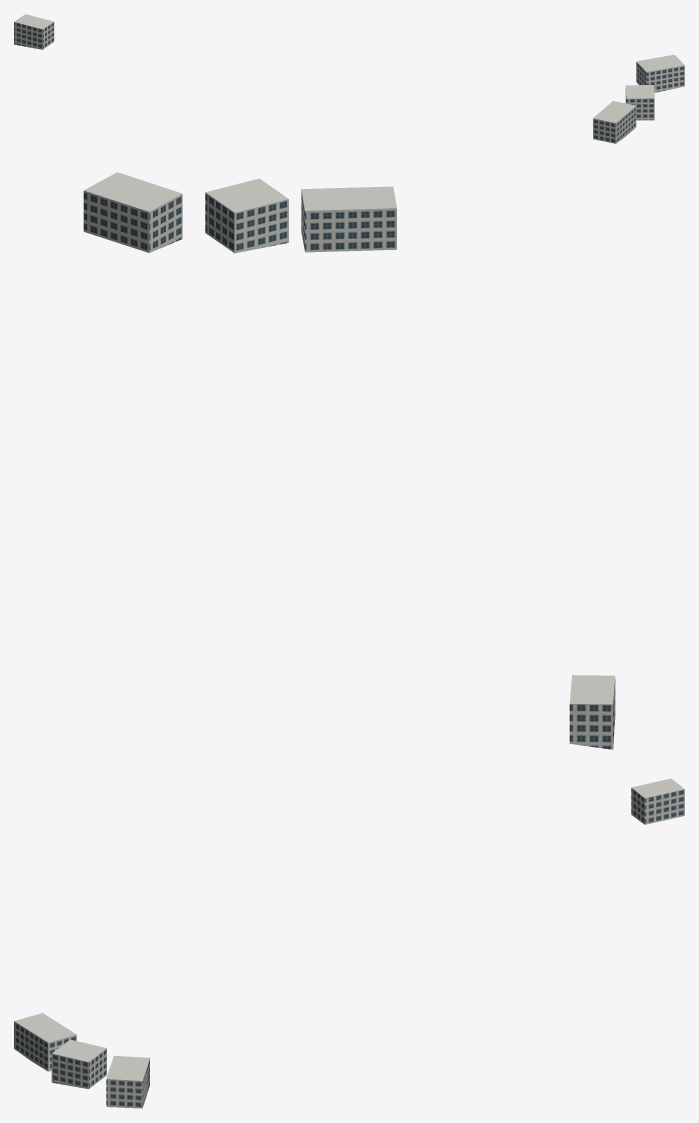
The model's file is city_7_-2.glb.
3 views of the same model, one above another, from view 1: azimuth 30°, elevation 25°; view 2: azimuth 150°, elevation 25°; view 3: azimuth 270°, elevation 25° (orthographic). The views are drawn at different scales.
Size of the model in its own units: 303 by 18.67 by 285.
Materials: 1 (1 with a texture image).
